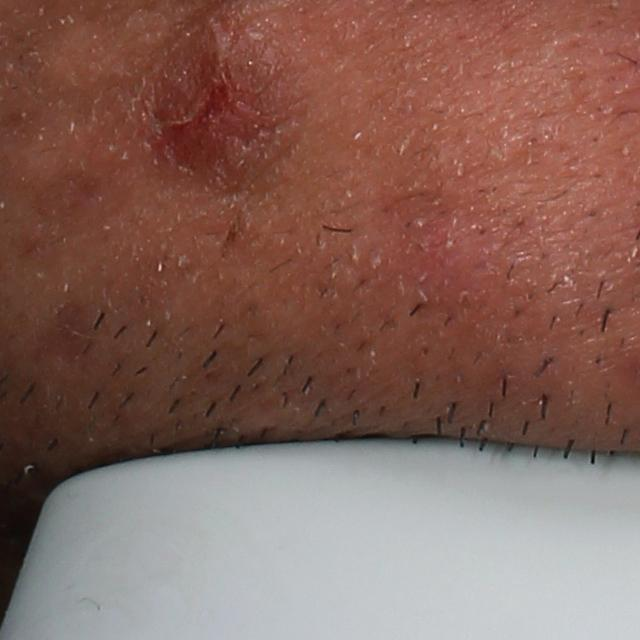hypertrophic_scar: (21, 26, 113, 103)
nodule: (154, 22, 306, 184)
